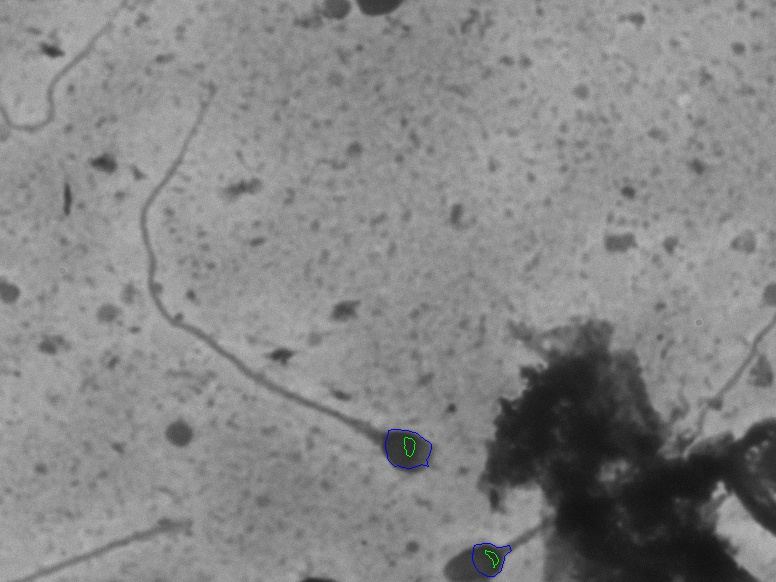Abnormal: (130, 73, 453, 486)
